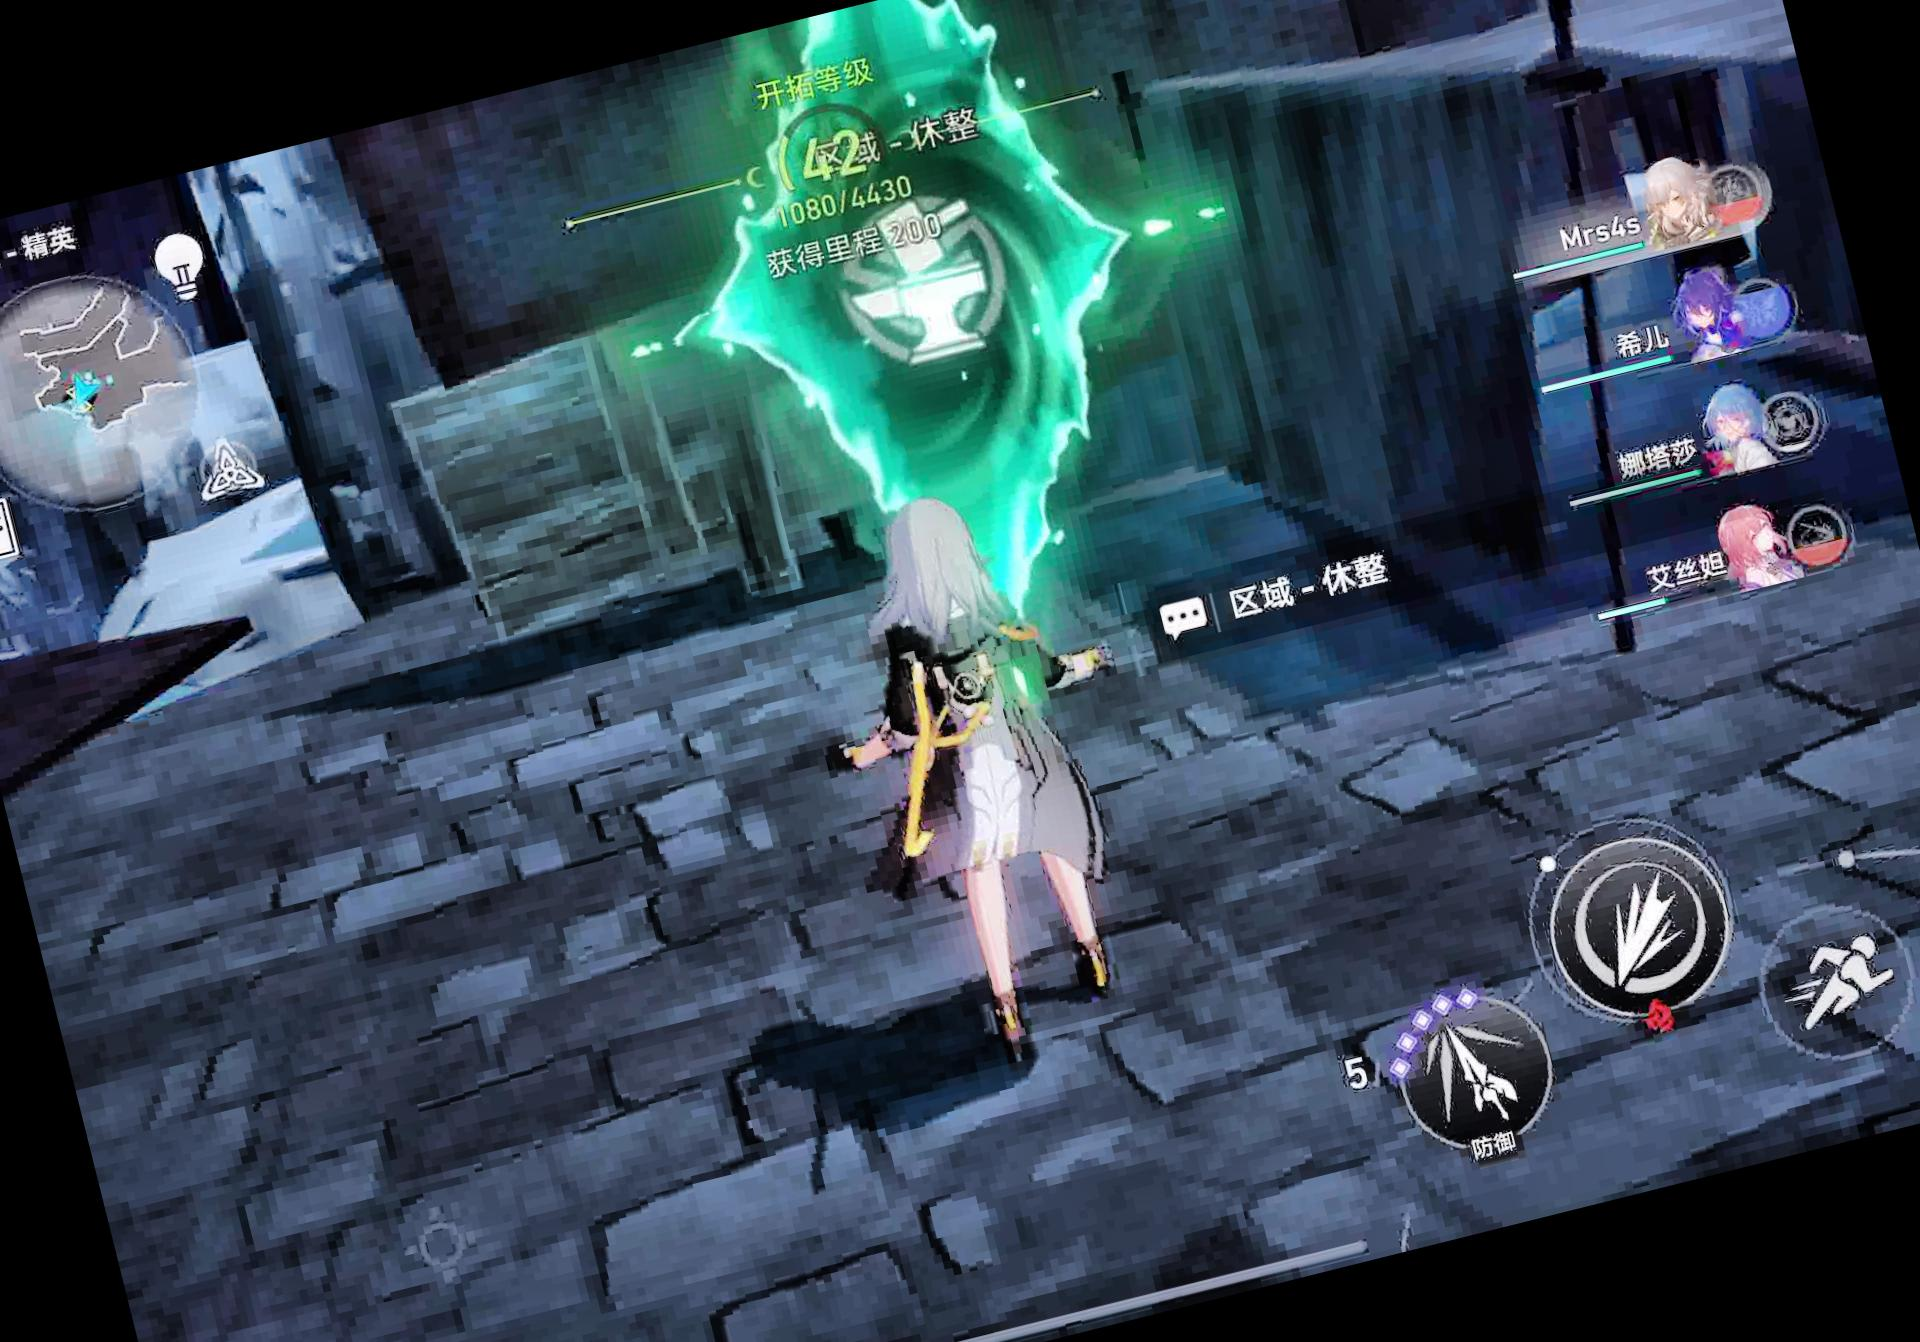EventDoor: (603, 0, 1209, 696)
Self: (797, 481, 1182, 1077)
